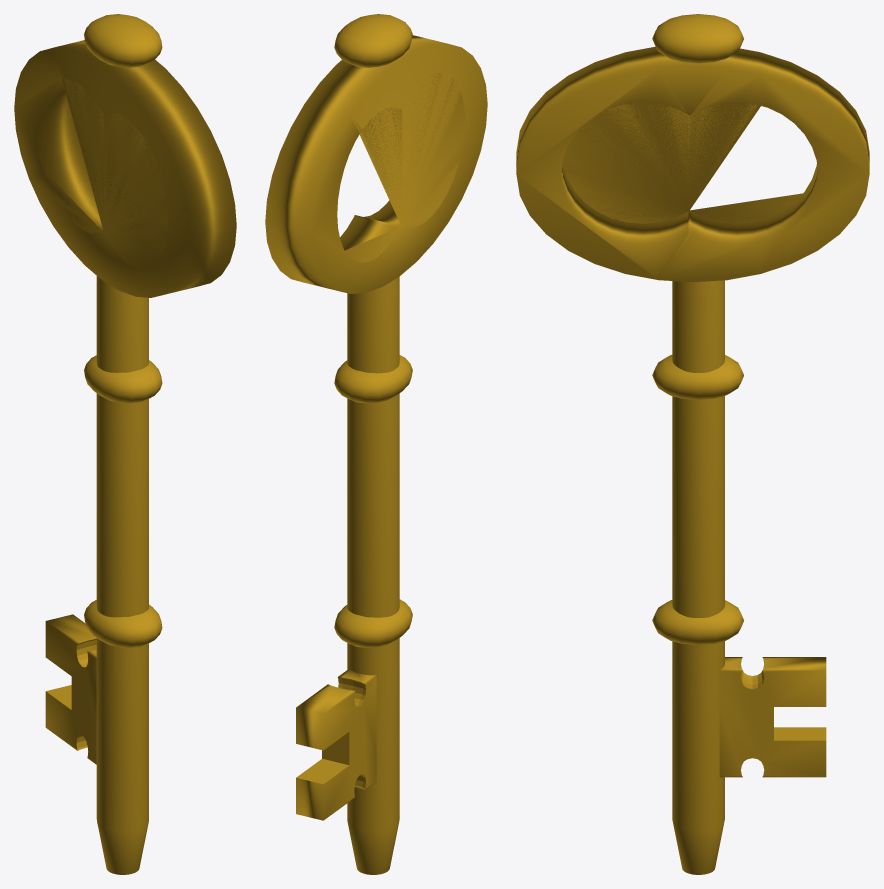
File: Key.fbx
3 views of the same model, side by side, from view 1: azimuth 30°, elevation 25°; view 2: azimuth 150°, elevation 25°; view 3: azimuth 270°, elevation 25° (orthographic).
Parts seen in each view (by area): view 1: Cylinder.001, Cylinder, Cube, Cube.004, Cube.005, Cube.003; view 2: Cylinder.001, Cylinder, Cube, Cube.004, Cube.003, Cube.005; view 3: Cylinder.001, Cylinder, Cube, Cube.004, Cube.005, Cube.003.
Part boxes in pixels (box(x1,y1,x2,y2)): Cylinder.001: box(14, 40, 236, 297); Cylinder: box(96, 276, 148, 874); Cube: box(45, 614, 96, 764); Cube.004: box(84, 14, 162, 67); Cube.005: box(84, 355, 162, 403); Cube.003: box(84, 600, 162, 648); Cylinder.001: box(265, 35, 487, 293); Cylinder: box(347, 276, 399, 874); Cube: box(296, 668, 376, 820); Cube.004: box(334, 14, 412, 67); Cube.003: box(334, 599, 412, 647); Cube.005: box(334, 355, 412, 403); Cylinder.001: box(516, 46, 869, 282); Cylinder: box(672, 280, 724, 874); Cube: box(719, 657, 826, 777); Cube.004: box(652, 14, 743, 63); Cube.005: box(652, 355, 743, 399); Cube.003: box(652, 600, 743, 645).
Bounding box in the file's own units: 59.27 × 12.11 × 157.
